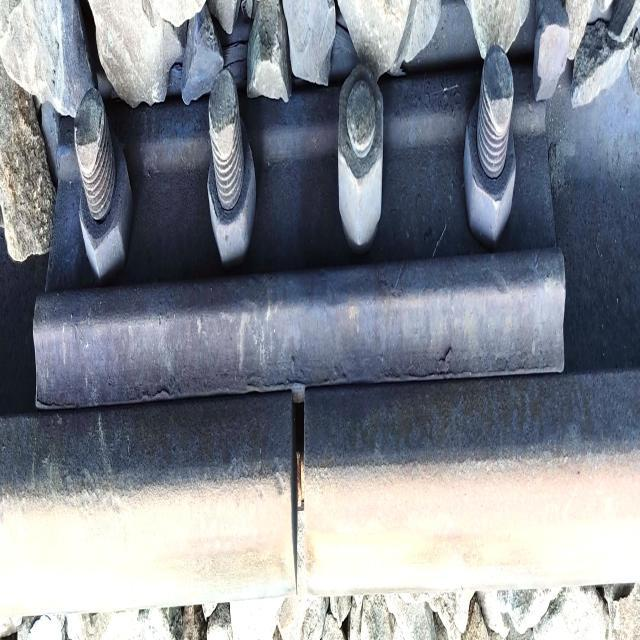Good Joint: (31, 45, 585, 426)
